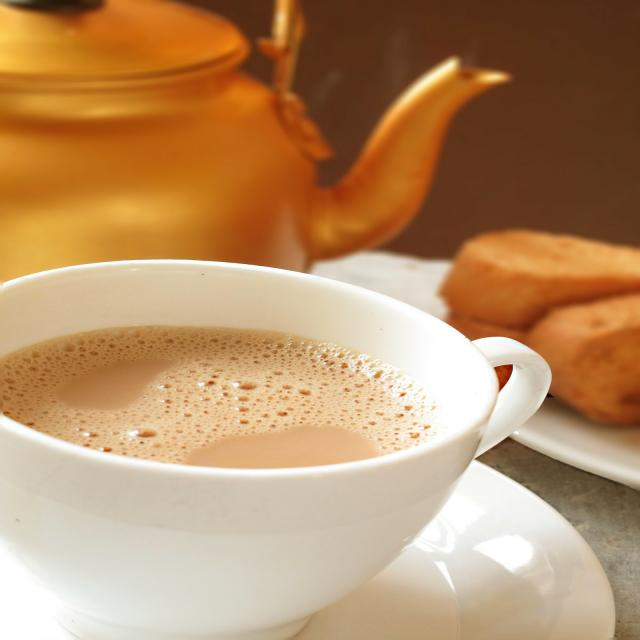Chai: (0, 317, 447, 473)
